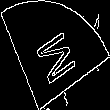M_SW: (30, 22, 80, 88)
